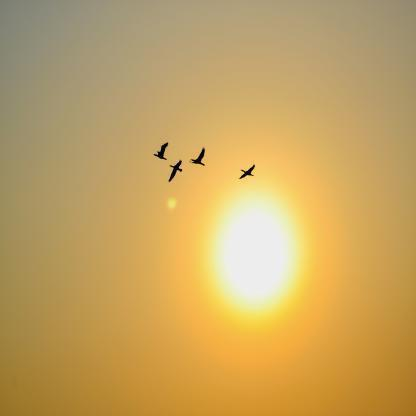bird: (168, 159, 183, 183), (190, 147, 206, 166), (153, 143, 169, 161), (238, 164, 255, 180)
